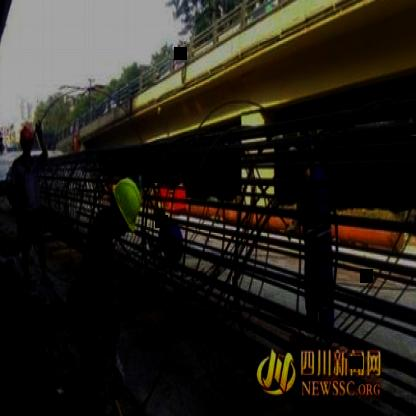helmet: (106, 173, 144, 236), (14, 118, 37, 160)
